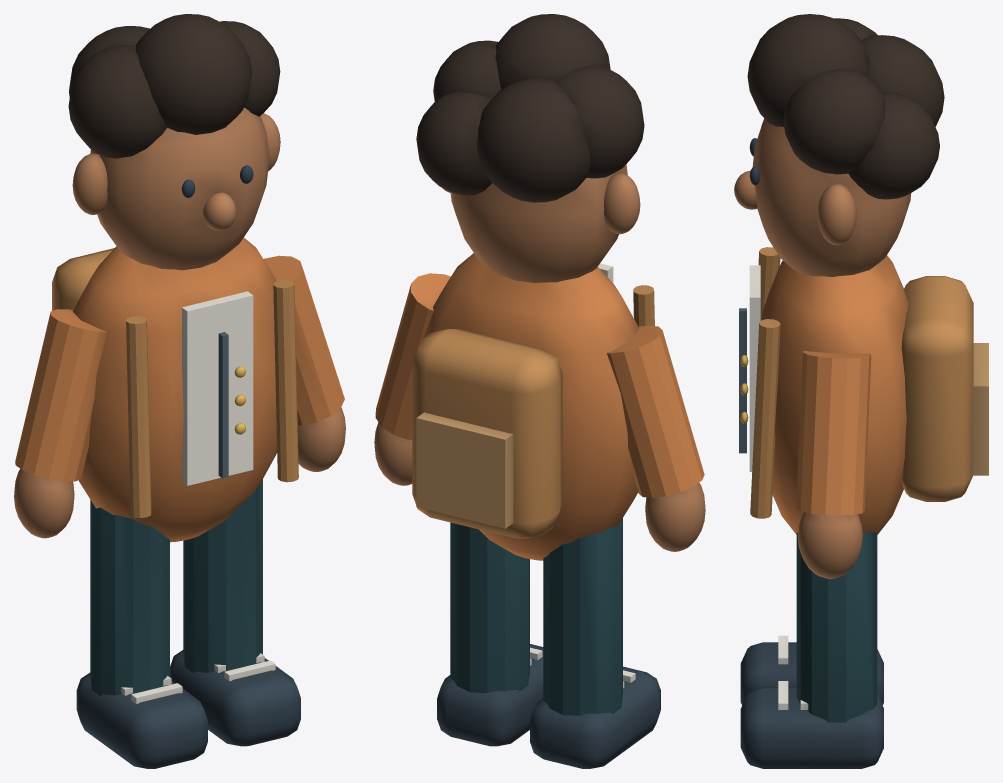
File: salvador.glb
3 renders of one model, left to right at view 1: azimuth 30°, elevation 25°; view 2: azimuth 150°, elevation 25°; view 3: azimuth 270°, elevation 25°, orthographic.
Parts seen in each view (by area): view 1: jacket, neck, trousers, hair curl, shoe, t shirt, backpack, jacket zipper; view 2: jacket, hair curl, trousers, backpack, neck, shoe, backpack pocket; view 3: jacket, hair curl, backpack, neck, trousers, shoe, t shirt, backpack pocket, jacket zipper.
Boxes of the visible parts, x1=… form: jacket: x1=15, y1=237, x2=344, y2=542; neck: x1=14, y1=107, x2=345, y2=538; trousers: x1=90, y1=479, x2=262, y2=695; hair curl: x1=68, y1=14, x2=280, y2=158; shoe: x1=76, y1=165, x2=300, y2=768; t shirt: x1=121, y1=291, x2=275, y2=703; backpack: x1=52, y1=248, x2=298, y2=517; jacket zipper: x1=218, y1=332, x2=228, y2=478; jacket: x1=375, y1=253, x2=704, y2=560; hair curl: x1=416, y1=14, x2=644, y2=202; trousers: x1=450, y1=518, x2=622, y2=715; backpack: x1=412, y1=285, x2=654, y2=538; neck: x1=374, y1=164, x2=705, y2=551; shoe: x1=437, y1=644, x2=660, y2=768; backpack pocket: x1=416, y1=412, x2=513, y2=528; jacket: x1=761, y1=255, x2=908, y2=534; hair curl: x1=747, y1=14, x2=944, y2=199; backpack: x1=750, y1=247, x2=973, y2=518; neck: x1=734, y1=118, x2=911, y2=578; trousers: x1=796, y1=531, x2=877, y2=722; shoe: x1=740, y1=138, x2=883, y2=768; t shirt: x1=749, y1=265, x2=808, y2=709; backpack pocket: x1=972, y1=343, x2=988, y2=475; jacket zipper: x1=739, y1=308, x2=746, y2=453.
Size of the model in its own units: 0.834 by 1.77 by 0.569.
